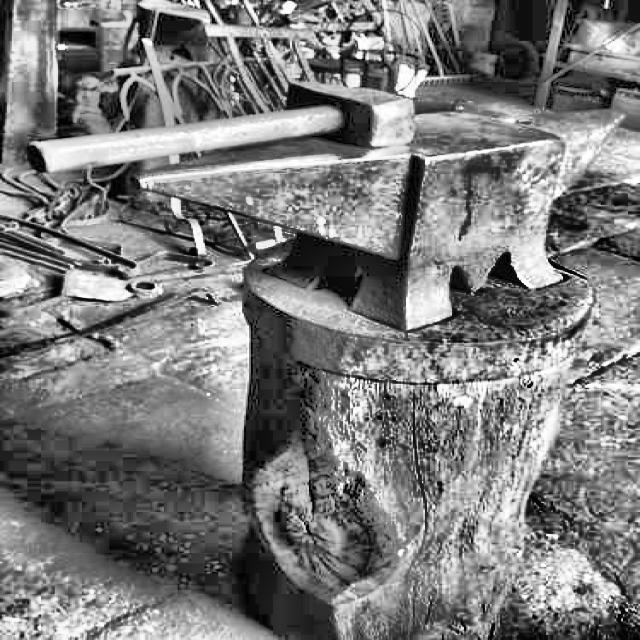hammer: (29, 79, 419, 179)
